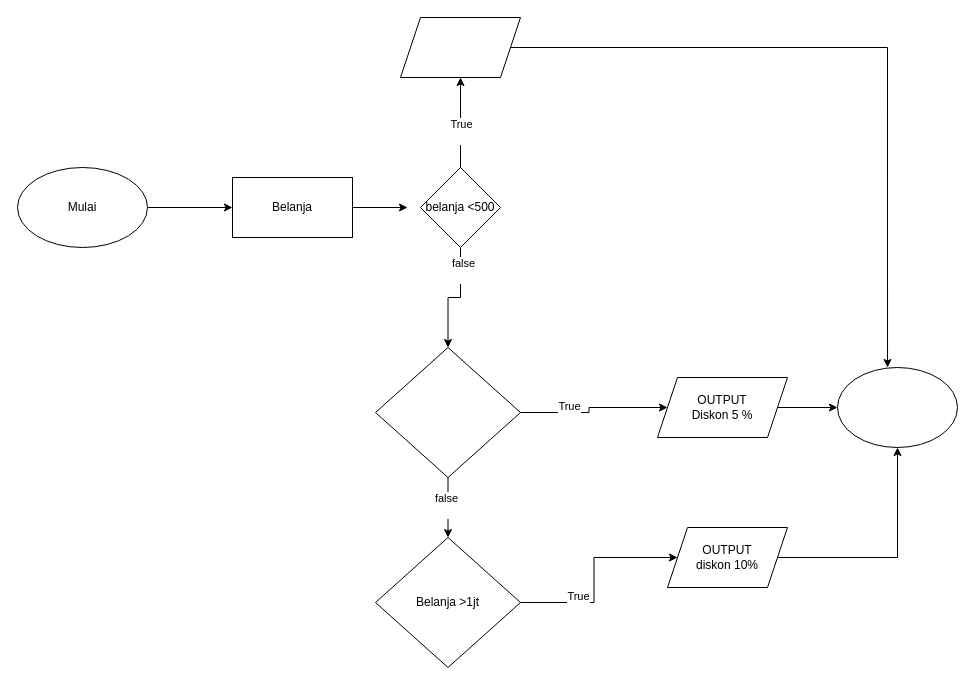
Image size: 975x685. Some labels were removed from this diagram. The shapes that lost their labels are listed below. From the top down, each one's centre as x and y in pixels, then its label:
[460,47]: OUTPUT diskon 0%
[447,412]: Belanja >500 && <= 1jt
[897,407]: Selesai
